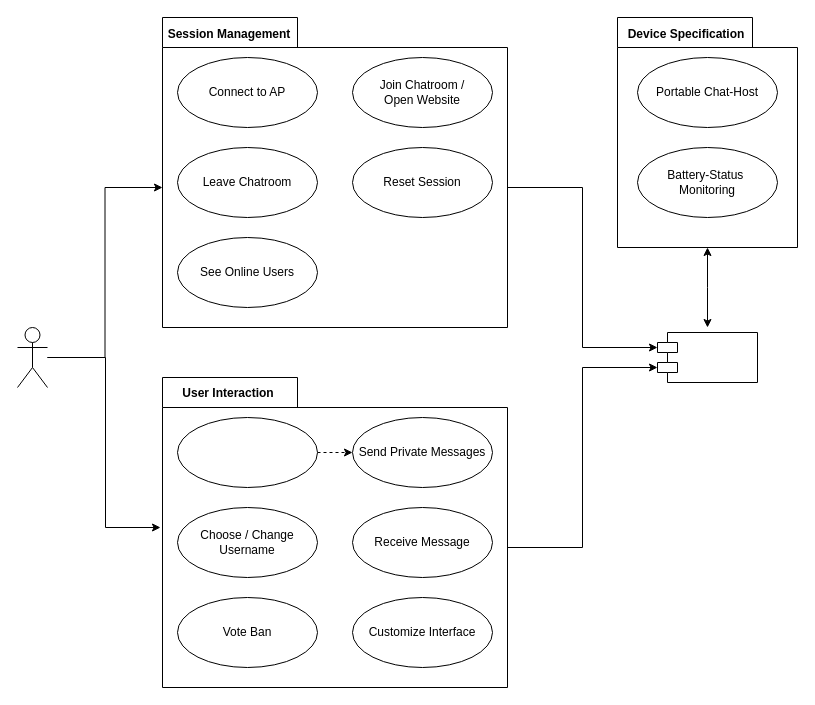
This 815x705 diagram has some shape labels left out. Each missing label, with the centre of its shape:
"MC" goes at [707,357].
"Send Message" goes at [247,452].
"User" goes at [32,357].
